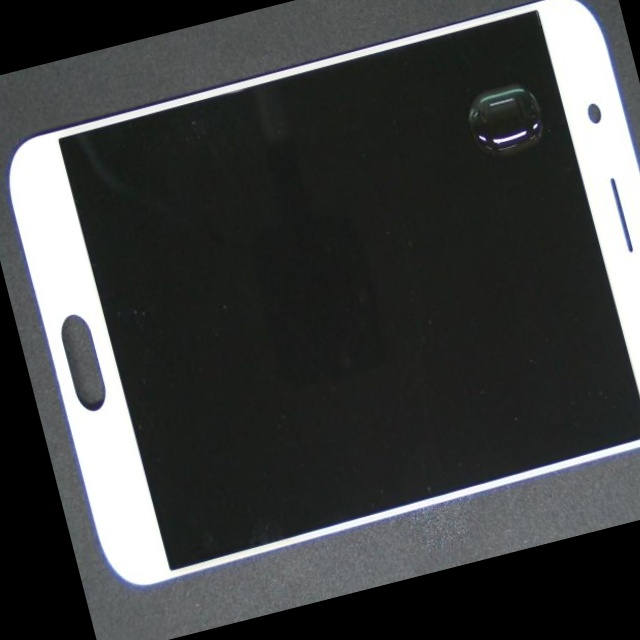oil: (206, 0, 640, 265)
